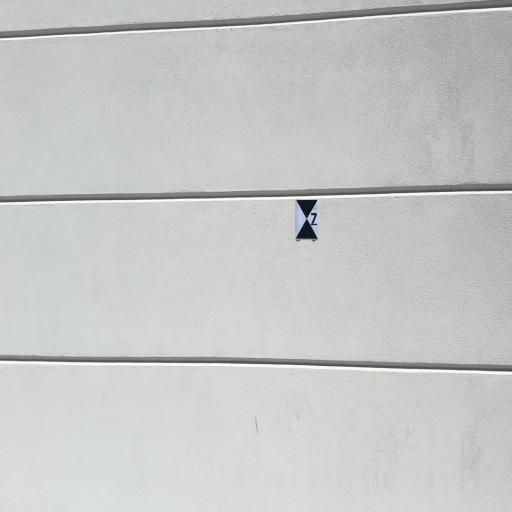target7: (295, 200, 319, 240)
